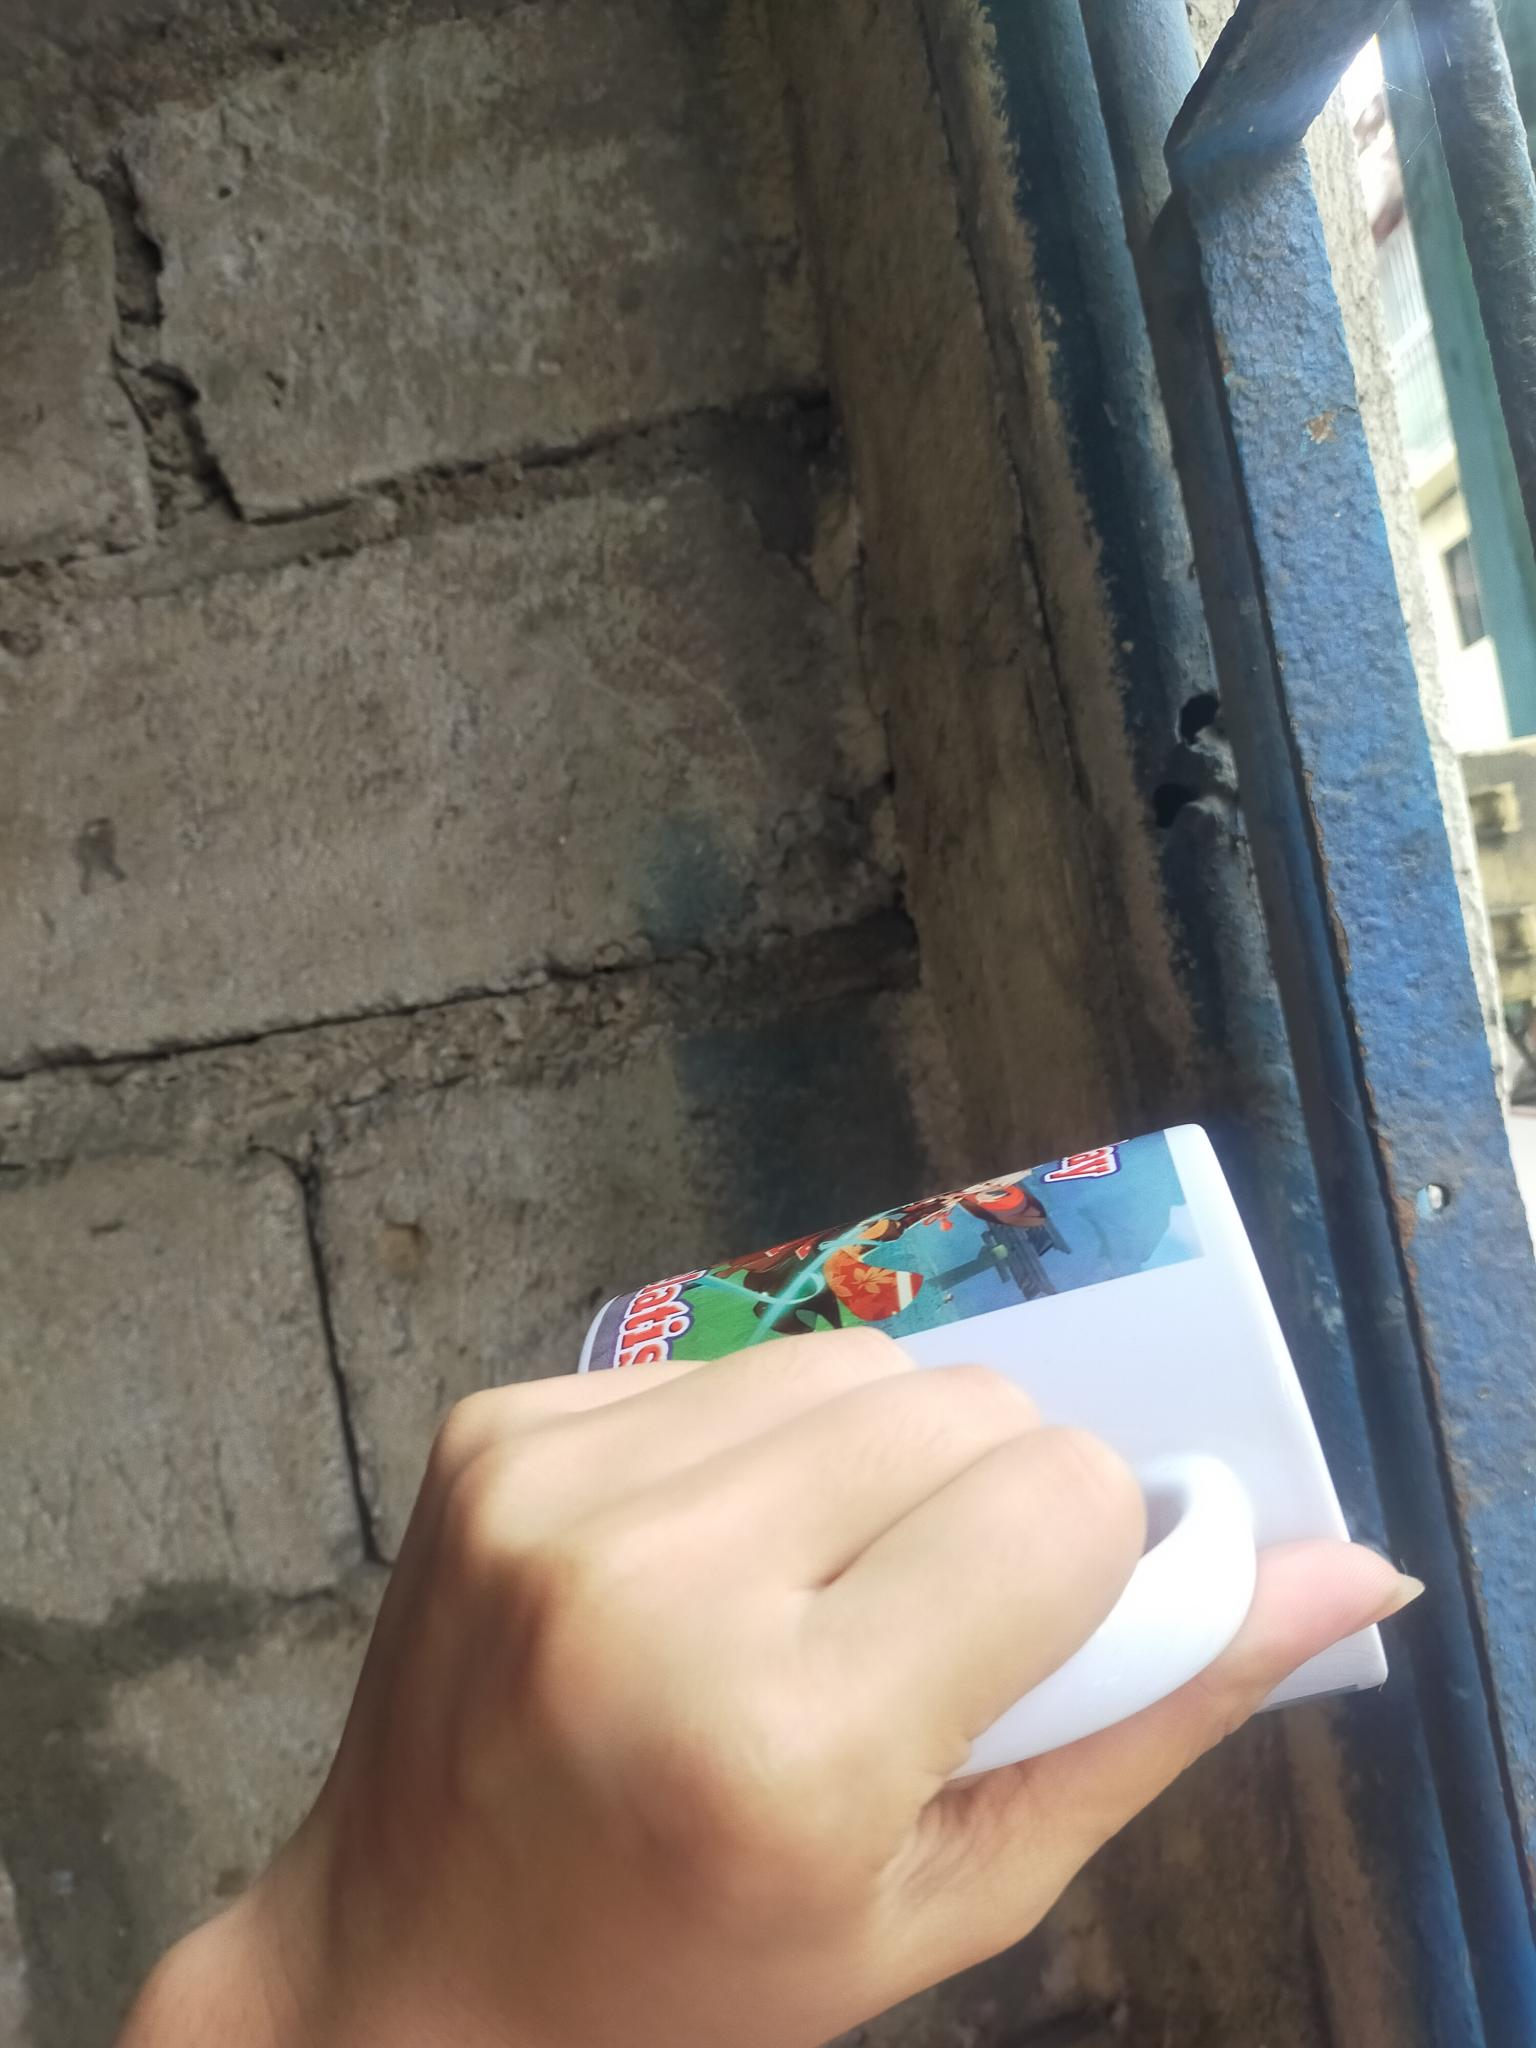Coffee Mug: (581, 1116, 1384, 1782)
